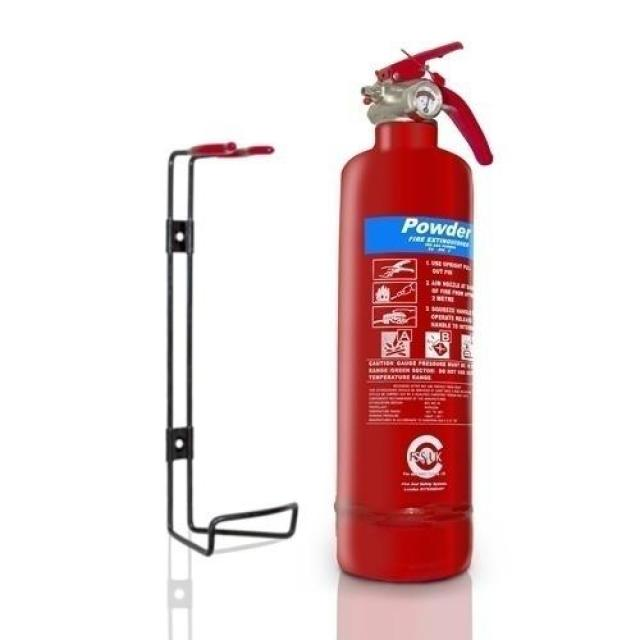fire_extinguisher: (327, 37, 497, 589)
